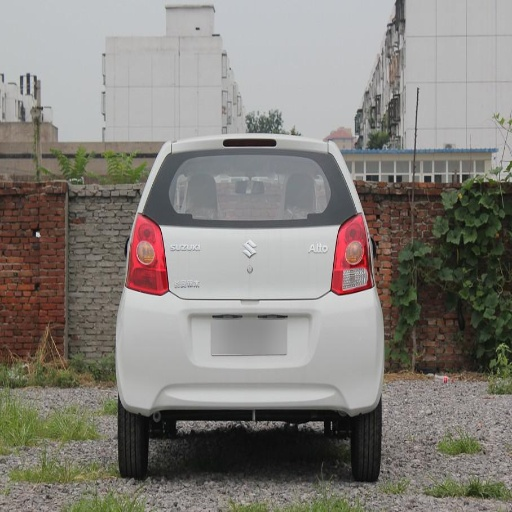back_bumper: (122, 288, 380, 414)
trunk: (161, 215, 349, 360)
